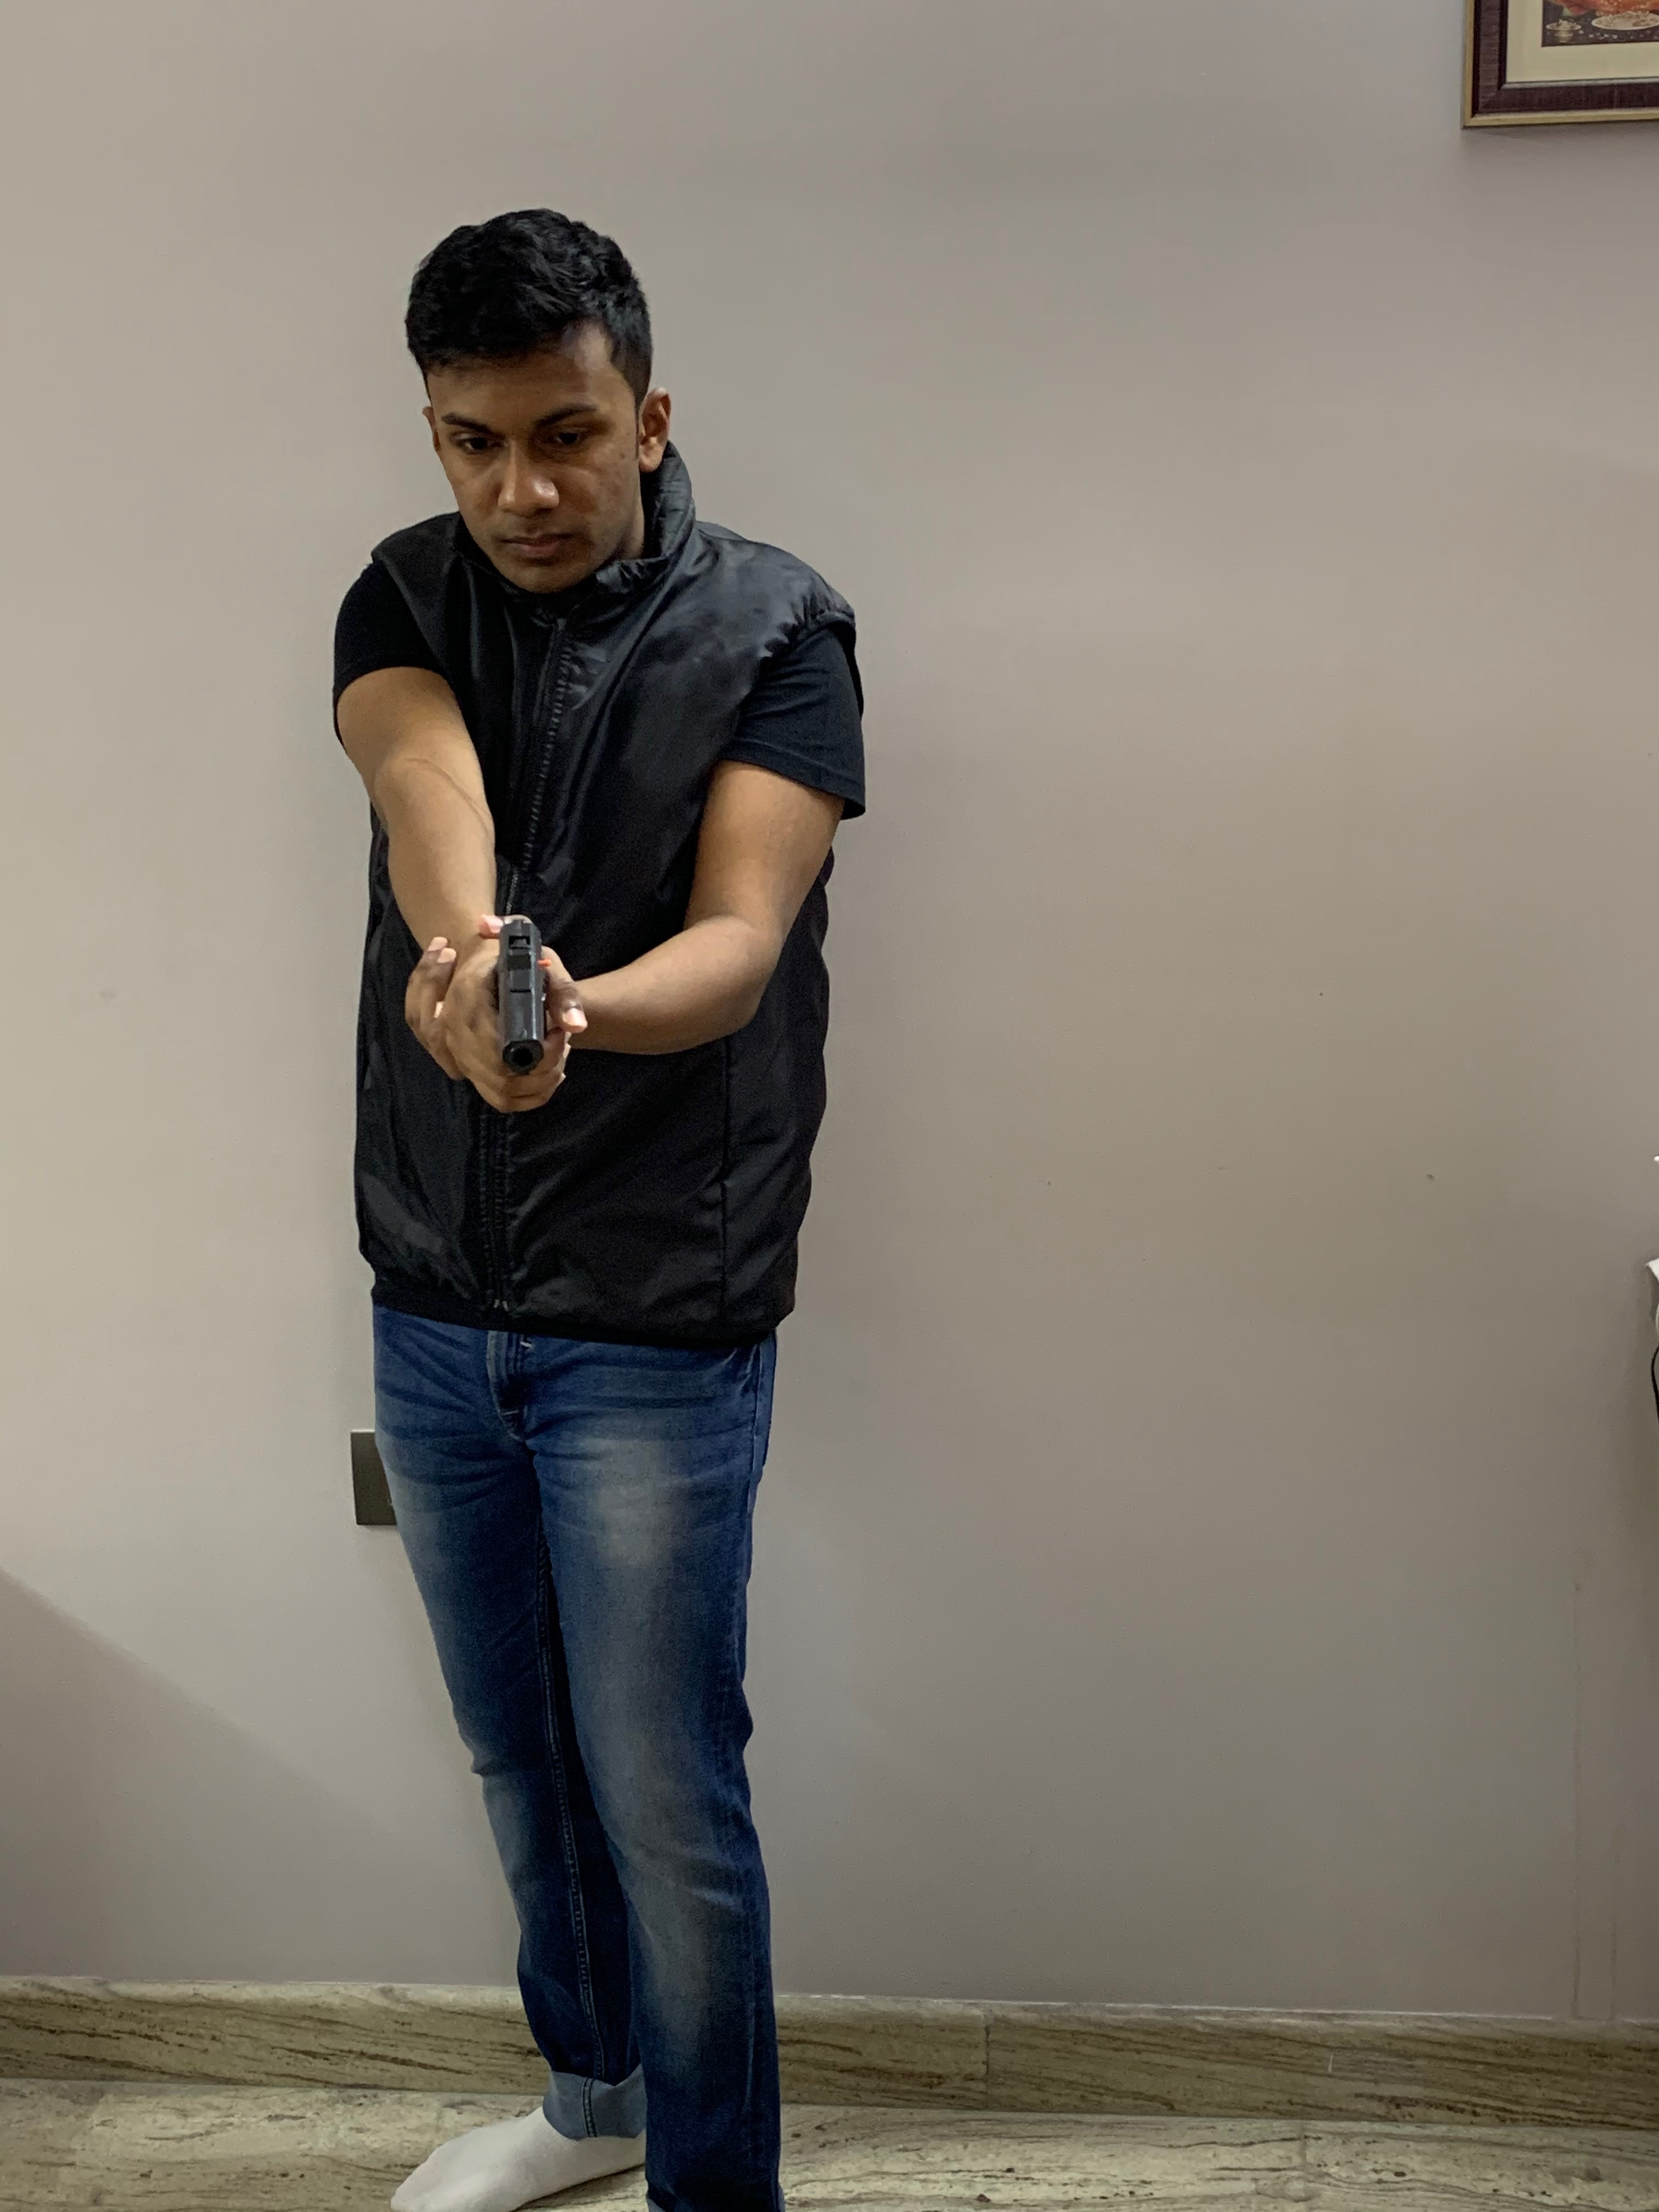gun: (493, 911, 549, 1071)
